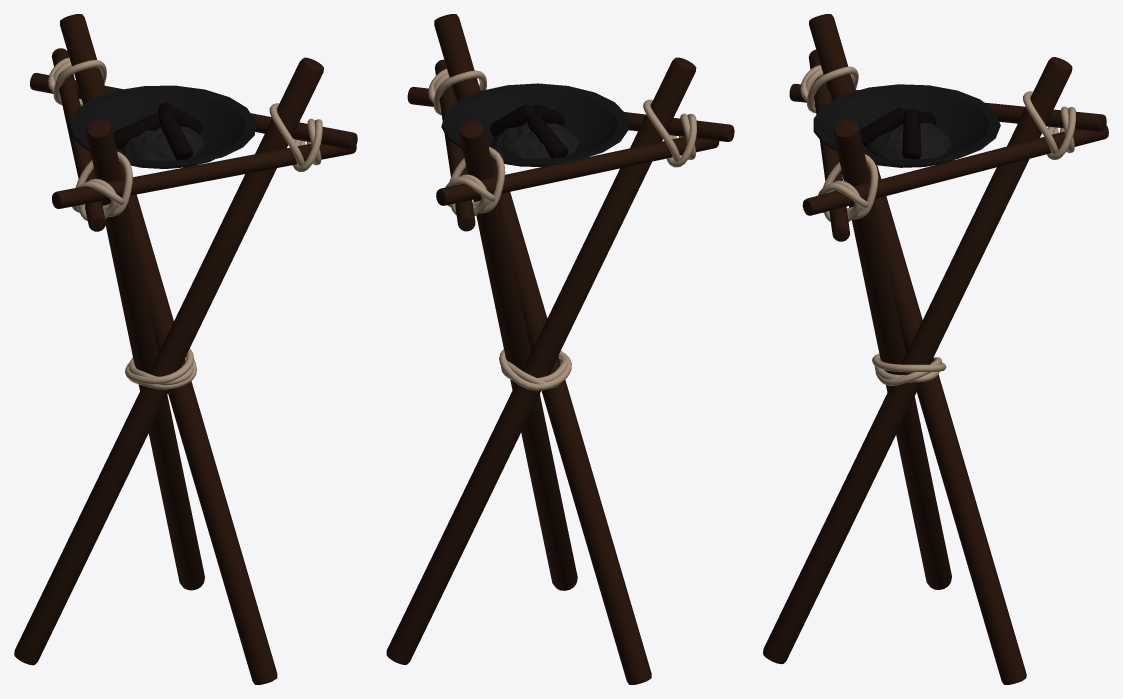
Rendered from SM_Torch.FBX.
3 views of the same model, side by side, from view 1: azimuth 30°, elevation 25°; view 2: azimuth 150°, elevation 25°; view 3: azimuth 270°, elevation 25° (orthographic).
Parts seen in each view (by area): view 1: SM_Torch; view 2: SM_Torch; view 3: SM_Torch.
Boxes of the visible parts, x1=… form: SM_Torch: x1=14, y1=14, x2=357, y2=684; SM_Torch: x1=386, y1=14, x2=734, y2=684; SM_Torch: x1=763, y1=14, x2=1108, y2=684.
Size of the model in its own units: 87.59 by 157 by 84.7.
